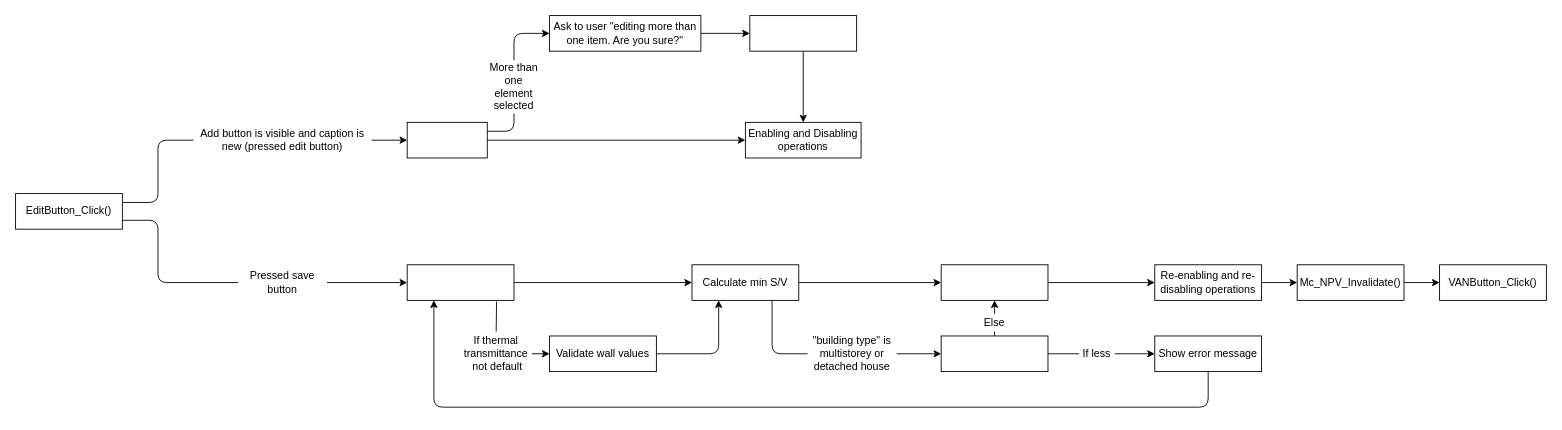
Image size: 1562x430. Some labels were removed from this diagram. The shapes that lost their labels are listed below. From the top down, each one's centre as x and y in pixels, then its label:
(x=803, y=33): Edit first case
(x=446, y=139): Get selected items of user
(x=460, y=282): Validate entered values
(x=994, y=282): AddCaseRecord(0)
(x=994, y=353): Check entered S/V is less than min S/V
